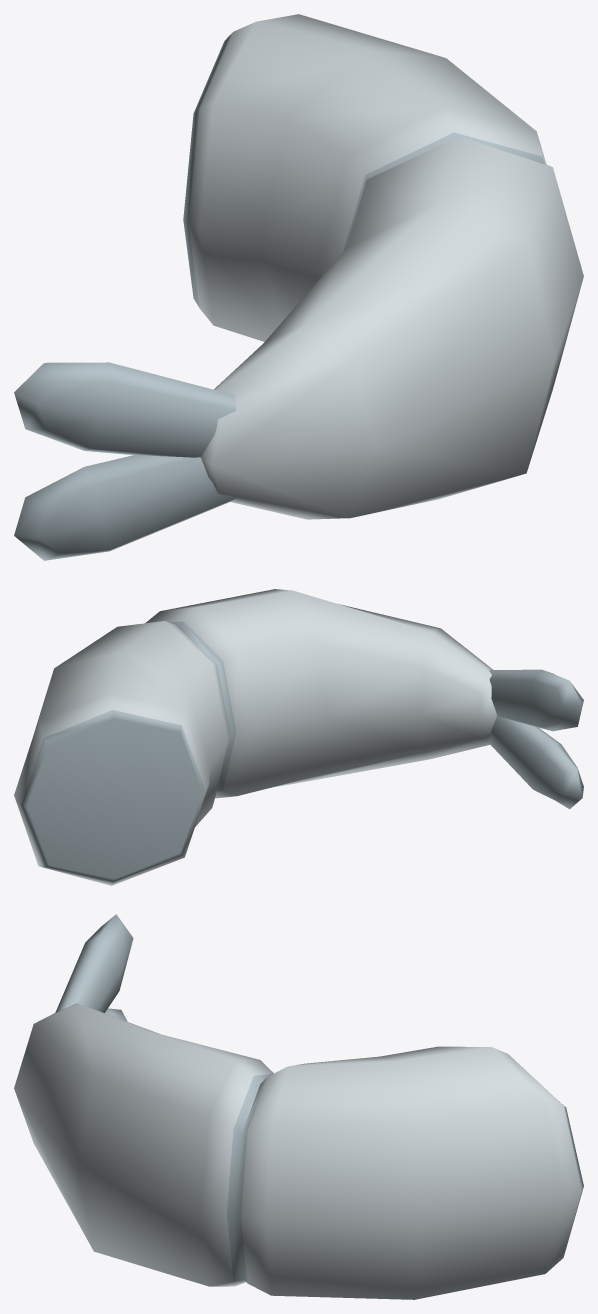
Rendered from Shrimp_2_Peeled_1_Half_2.fbx.
3 renders of one model, top to bottom at view 1: azimuth 30°, elevation 25°; view 2: azimuth 150°, elevation 25°; view 3: azimuth 270°, elevation 25°, orthographic. The views are drawn at different scales.
Visible parts, largest first — view 1: Shrimp_2_Peeled_1_Half_2; view 2: Shrimp_2_Peeled_1_Half_2; view 3: Shrimp_2_Peeled_1_Half_2.
Part boxes in pixels (box(x1,y1,x2,y2)): Shrimp_2_Peeled_1_Half_2: box(14, 14, 583, 560); Shrimp_2_Peeled_1_Half_2: box(14, 589, 583, 885); Shrimp_2_Peeled_1_Half_2: box(14, 914, 583, 1299).
Size of the model in its own units: 8.8 by 3.95 by 8.72.
